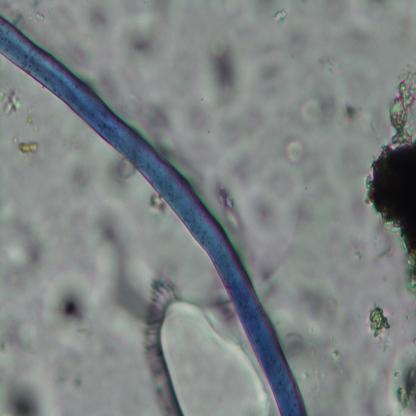Air bubble: (148, 289, 270, 416)
Background material: (369, 58, 416, 288), (96, 209, 162, 331), (0, 330, 65, 416), (295, 278, 361, 350), (46, 274, 99, 346), (0, 204, 47, 284), (205, 44, 257, 114), (289, 80, 368, 126), (113, 16, 167, 60), (282, 319, 322, 369), (390, 345, 416, 416), (130, 98, 173, 139), (0, 308, 40, 352), (216, 186, 250, 236), (221, 154, 263, 192), (27, 0, 74, 32), (0, 88, 36, 127), (4, 130, 45, 164), (249, 51, 282, 91), (366, 303, 398, 344), (261, 0, 295, 29), (280, 134, 307, 167), (109, 157, 139, 184), (254, 195, 277, 227), (286, 199, 312, 226), (82, 0, 108, 27), (348, 234, 366, 268), (350, 193, 368, 227), (143, 189, 170, 208)
Microfibre: (0, 16, 307, 416)
